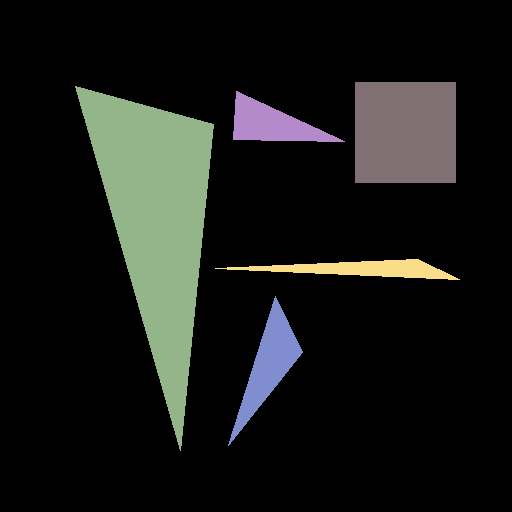square: (355, 82, 455, 182)
triangle: (75, 86, 213, 450), (228, 296, 302, 445), (233, 91, 344, 141), (215, 259, 459, 279)
